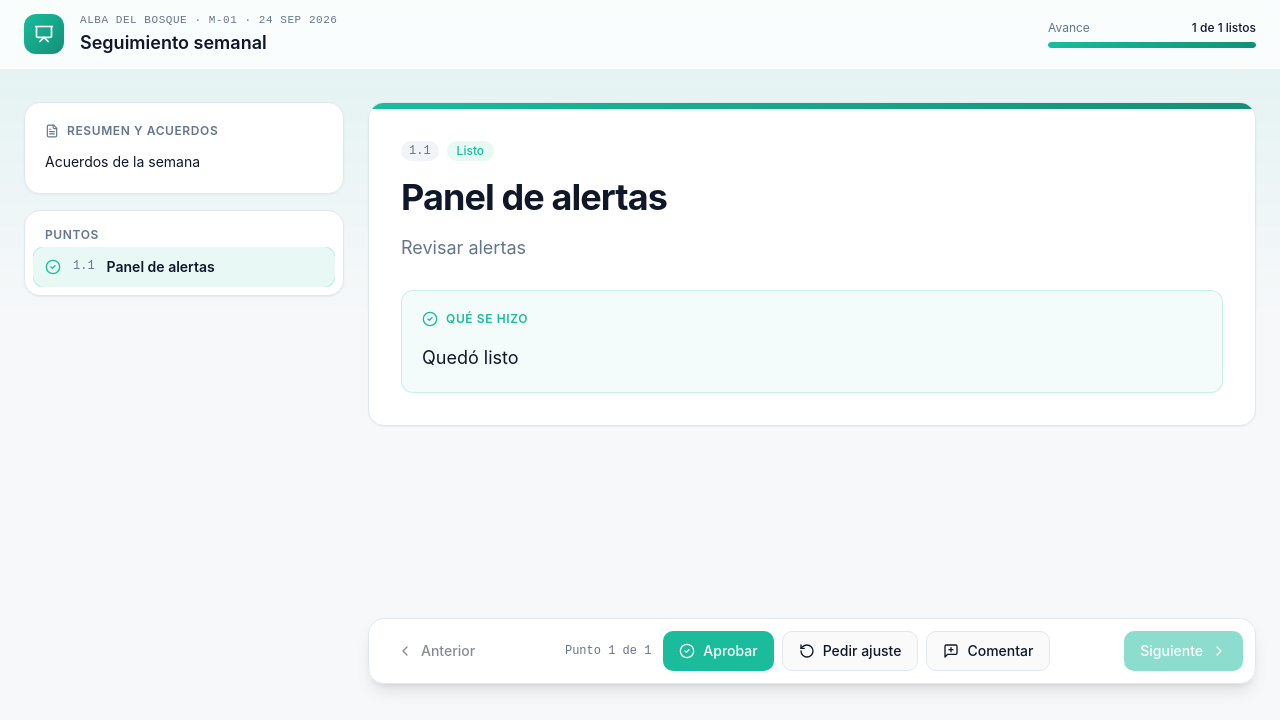
Test: MinutaPublica › el cliente aprueba y comenta con sus propias palabras, sin salida hacia Tiusdei
Expected: the heading "Panel de alertas" is shown, [401,174,667,218]
Click the button "Aprobar": click(719, 651) [663,631,774,671]
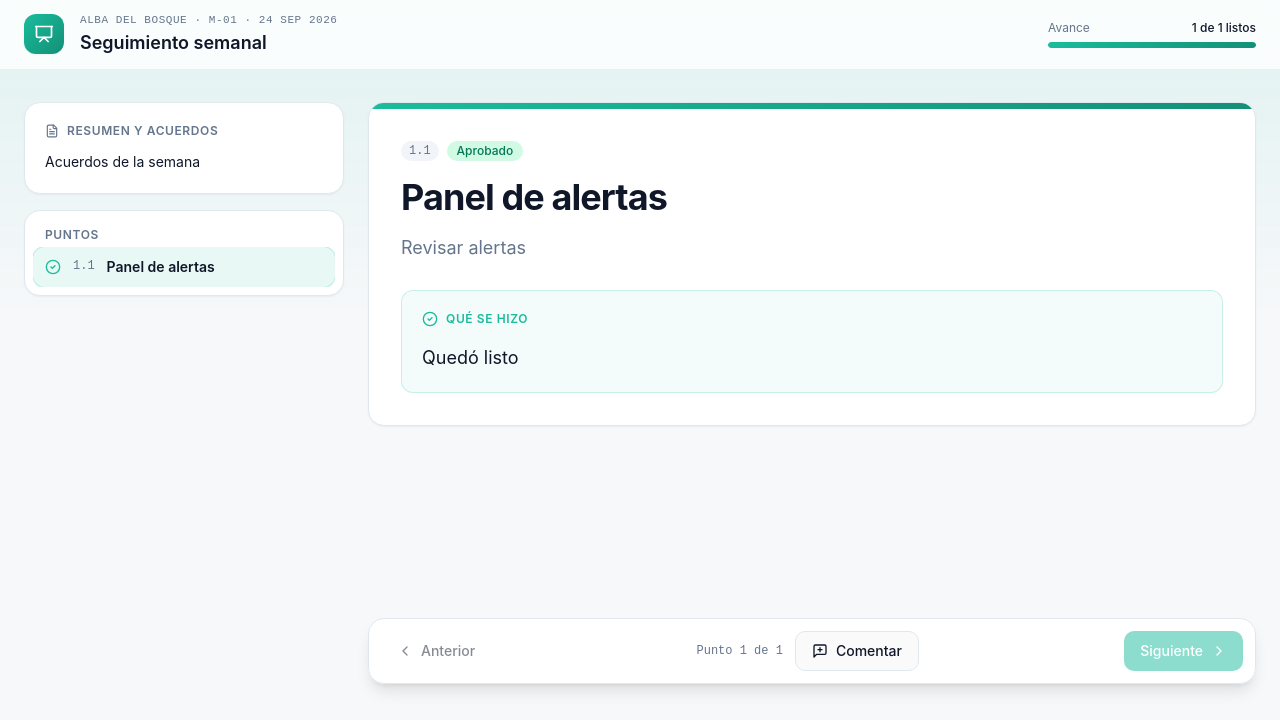
Click the button "Comentar": click(857, 651) [795,631,919,671]
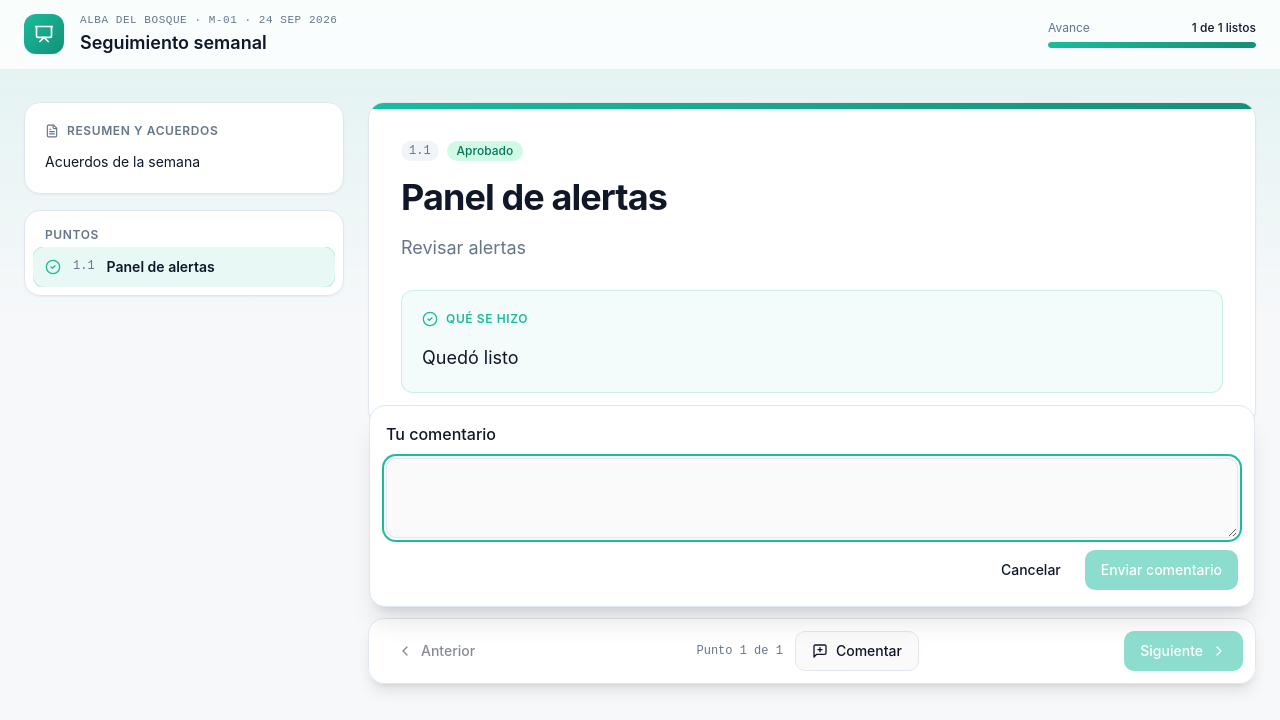
In the text box labelled "Tu comentario": (812, 498) [386,458,1238,538], type "Se ve bien"
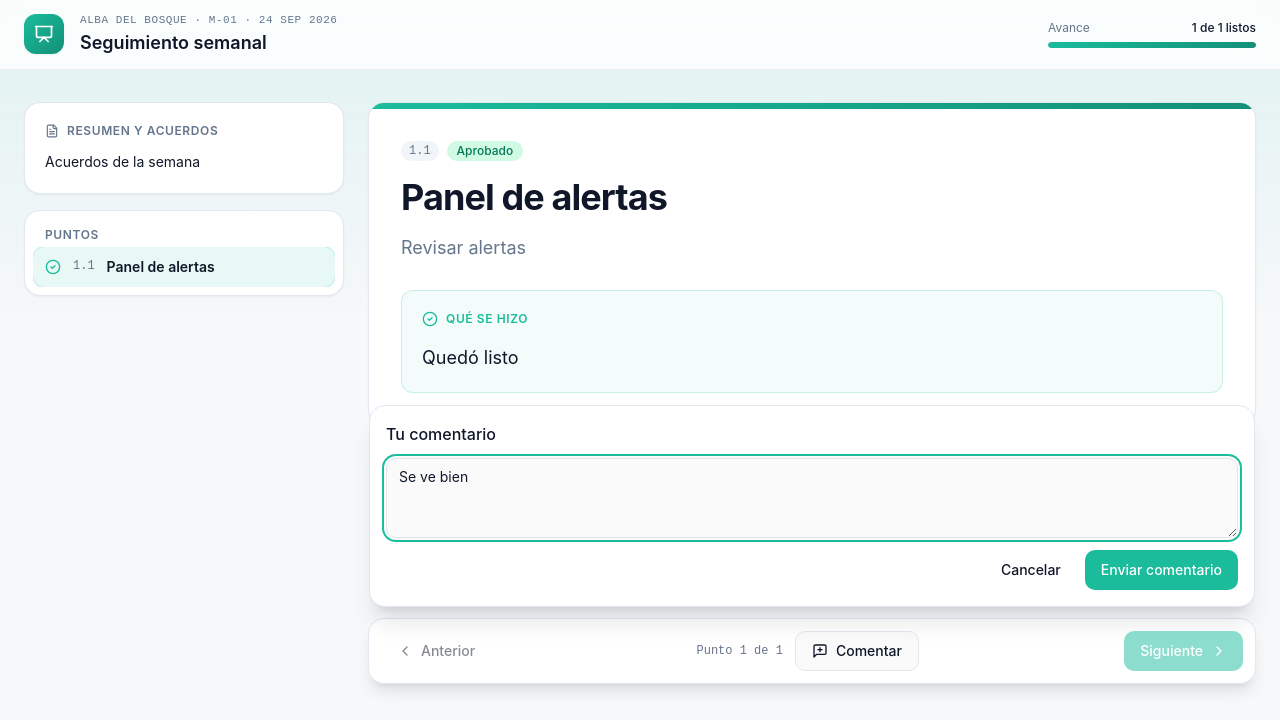
Click the button "Enviar comentario": click(1161, 570) [1085,550,1238,590]
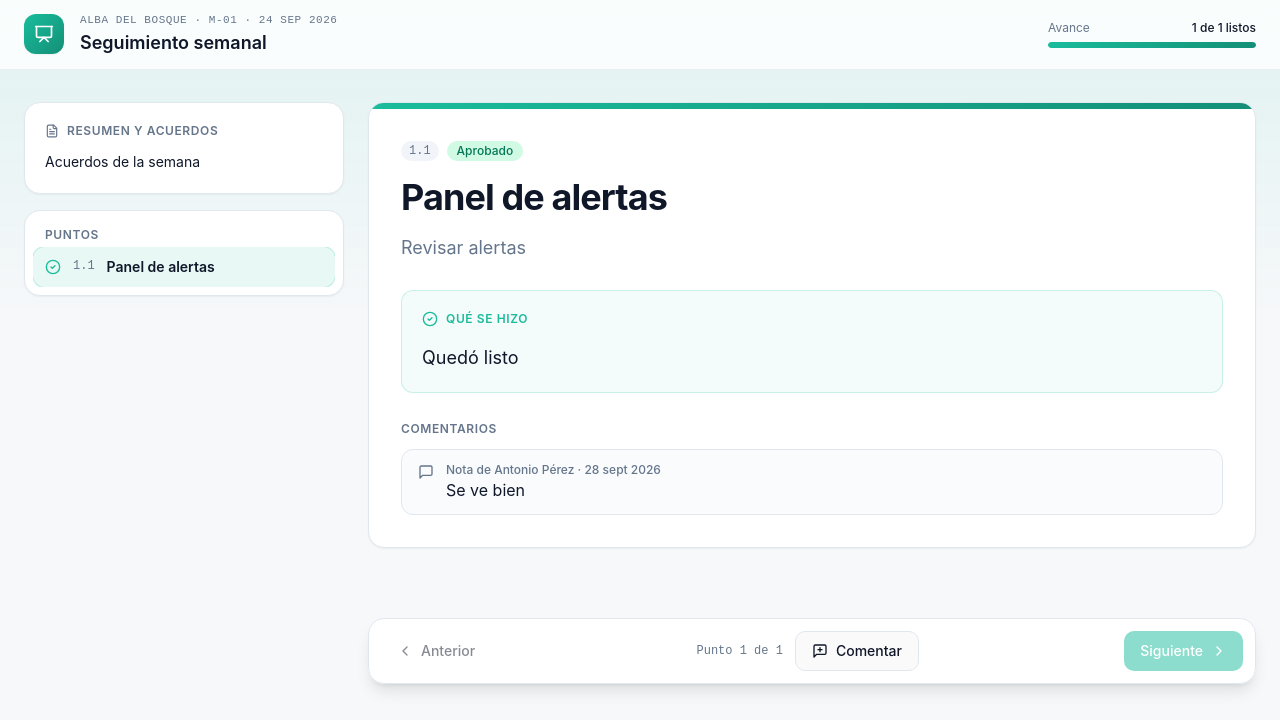
Expected: the text "Nota de Antonio Pérez · 28 sept 2026" is shown, [446,462,661,478]
Expected: the heading "Comentarios" is shown, [401,421,497,436]
